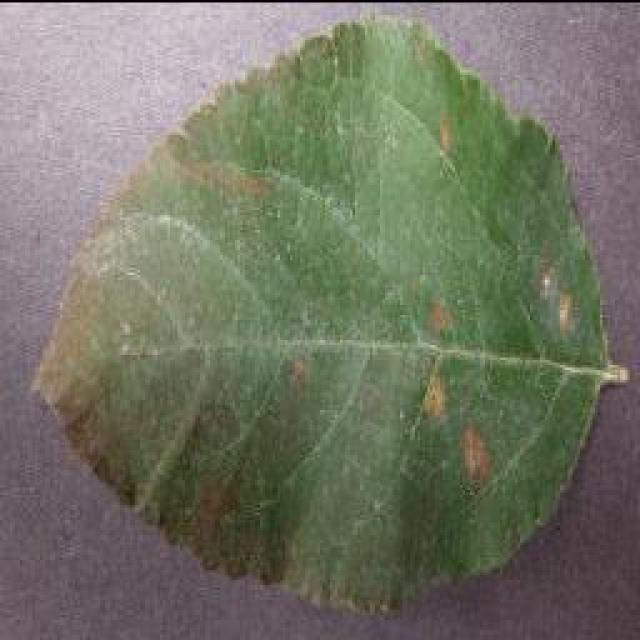apple rust disease: (30, 13, 628, 615)
